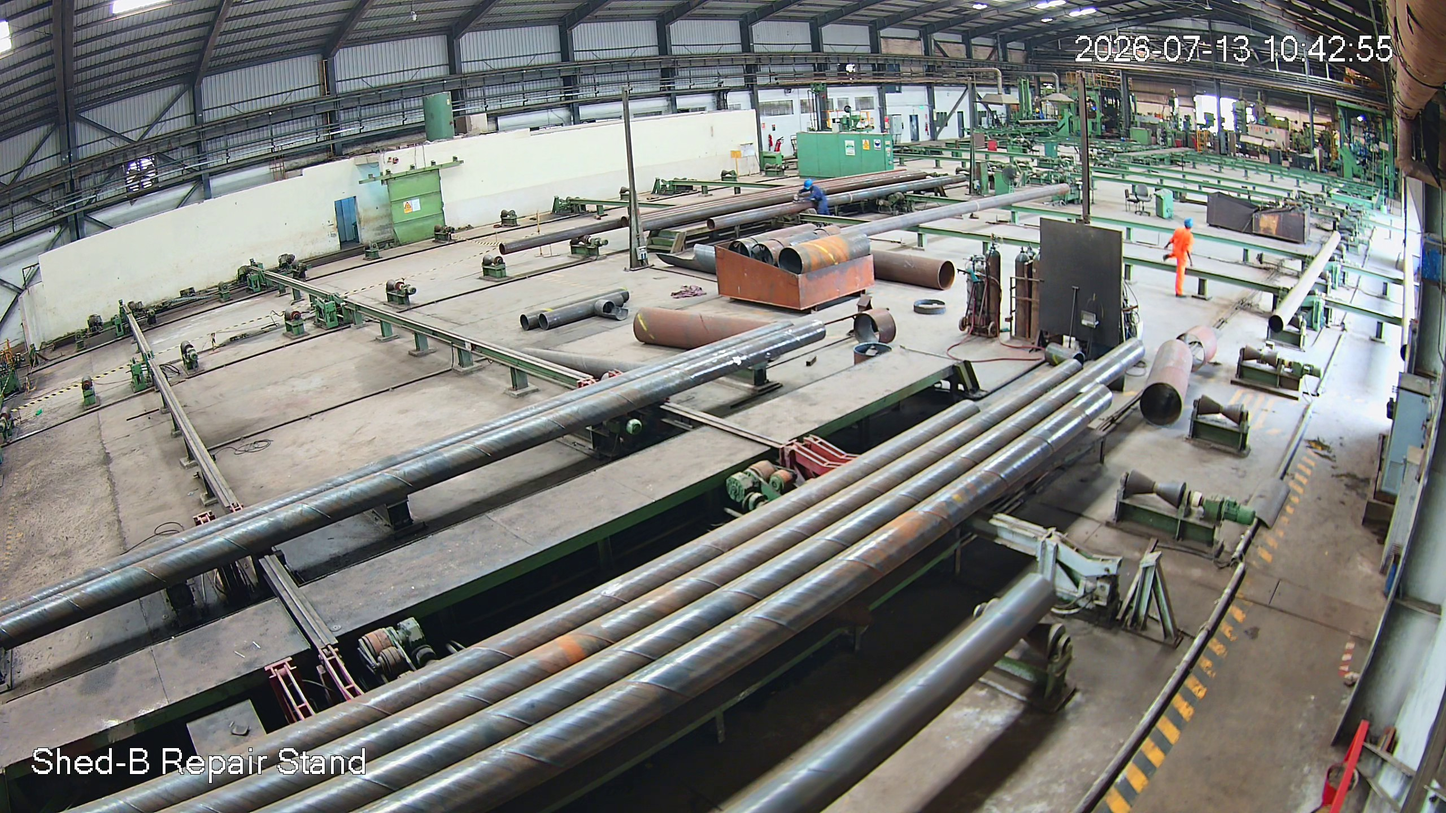Helmet: (1182, 216, 1195, 231)
Person: (1164, 218, 1196, 298)
